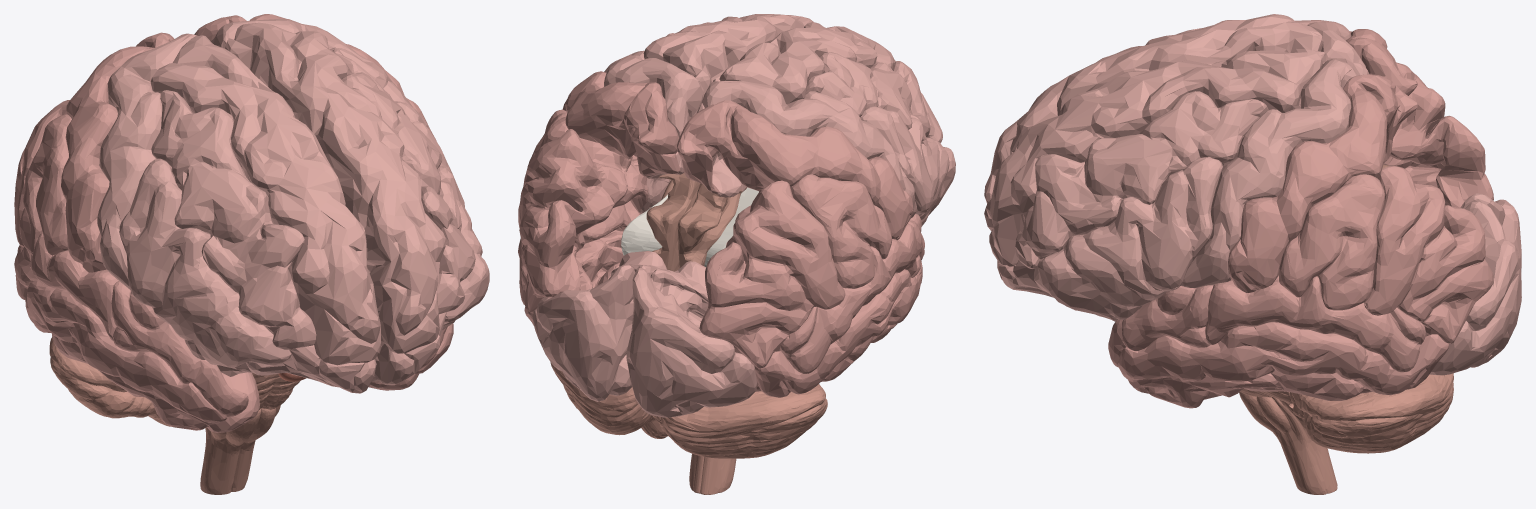
3 renders of one model, left to right at view 1: azimuth 30°, elevation 25°; view 2: azimuth 150°, elevation 25°; view 3: azimuth 270°, elevation 25°, orthographic. The views are drawn at different scales.
Parts seen in each view (by area): view 1: frontal_lobe__right_superior_frontal_gyrus, frontal_lobe__left_superior_frontal_gyrus, frontal_lobe__right_middle_frontal_gyrus, insula__right_accessory_short_gyrus, frontal_lobe__right_precentral_gyrus, parietal_lobe__right_postcentral_gyrus, temporal_lobe__right_middle_temporal_gyrus, frontal_lobe__left_middle_frontal_gyrus, temporal_lobe__anterior_part_of_right_superior_temporal_gyru, frontal_lobe__orbital_gyri_straight_gyrus, parietal_lobe__right_supramarginal_gyrus, temporal_lobe__posterior_part_of_right_superior_temporal_gyr (+8 smaller); view 2: parietal_lobe__right_angular_gyrus, occipital_lobe__right_occipital_lobe, parietal_lobe__right_postcentral_gyrus, parietal_lobe__left_angular_gyrus, cerebellum__cerebellum, occipital_lobe__left_occipital_lobe, parietal_lobe__left_postcentral_gyrus, frontal_lobe__right_precentral_gyrus, frontal_lobe__right_superior_frontal_gyrus, parietal_lobe__right_supramarginal_gyrus, frontal_lobe__left_superior_frontal_gyrus, frontal_lobe__right_middle_frontal_gyrus (+16 smaller); view 3: frontal_lobe__left_superior_frontal_gyrus, frontal_lobe__left_middle_frontal_gyrus, insula__left_accessory_short_gyrus, parietal_lobe__left_angular_gyrus, parietal_lobe__left_postcentral_gyrus, temporal_lobe__left_middle_temporal_gyrus, frontal_lobe__left_precentral_gyrus, frontal_lobe__right_superior_frontal_gyrus, parietal_lobe__left_supramarginal_gyrus, temporal_lobe__posterior_part_of_left_superior_temporal_gyru, cerebellum__cerebellum, parietal_lobe__right_angular_gyrus (+8 smaller).
Part boxes in pixels (x1=…): frontal_lobe__right_superior_frontal_gyrus: x1=150, y1=35, x2=380, y2=365; frontal_lobe__left_superior_frontal_gyrus: x1=225, y1=22, x2=445, y2=353; frontal_lobe__right_middle_frontal_gyrus: x1=151, y1=90, x2=316, y2=349; insula__right_accessory_short_gyrus: x1=119, y1=158, x2=291, y2=367; frontal_lobe__right_precentral_gyrus: x1=97, y1=33, x2=197, y2=289; parietal_lobe__right_postcentral_gyrus: x1=61, y1=32, x2=174, y2=272; temporal_lobe__right_middle_temporal_gyrus: x1=25, y1=280, x2=227, y2=423; frontal_lobe__left_middle_frontal_gyrus: x1=332, y1=48, x2=475, y2=314; temporal_lobe__anterior_part_of_right_superior_temporal_gyru: x1=111, y1=281, x2=248, y2=416; frontal_lobe__orbital_gyri_straight_gyrus: x1=217, y1=312, x2=455, y2=393; parietal_lobe__right_supramarginal_gyrus: x1=19, y1=114, x2=71, y2=255; temporal_lobe__posterior_part_of_right_superior_temporal_gyr: x1=14, y1=232, x2=118, y2=341; parietal_lobe__right_angular_gyrus: x1=699, y1=180, x2=845, y2=368; occipital_lobe__right_occipital_lobe: x1=626, y1=261, x2=756, y2=417; parietal_lobe__right_postcentral_gyrus: x1=677, y1=100, x2=913, y2=240; parietal_lobe__left_angular_gyrus: x1=518, y1=129, x2=627, y2=312; cerebellum__cerebellum: x1=550, y1=362, x2=827, y2=458; occipital_lobe__left_occipital_lobe: x1=532, y1=251, x2=666, y2=401; parietal_lobe__left_postcentral_gyrus: x1=562, y1=71, x2=680, y2=176; frontal_lobe__right_precentral_gyrus: x1=697, y1=80, x2=916, y2=217; frontal_lobe__right_superior_frontal_gyrus: x1=713, y1=22, x2=895, y2=191; parietal_lobe__right_supramarginal_gyrus: x1=759, y1=174, x2=892, y2=288; frontal_lobe__left_superior_frontal_gyrus: x1=643, y1=14, x2=813, y2=98; frontal_lobe__right_middle_frontal_gyrus: x1=806, y1=52, x2=942, y2=143; frontal_lobe__left_superior_frontal_gyrus: x1=984, y1=50, x2=1324, y2=266; frontal_lobe__left_middle_frontal_gyrus: x1=1015, y1=91, x2=1268, y2=268; insula__left_accessory_short_gyrus: x1=1034, y1=157, x2=1222, y2=319; parietal_lobe__left_angular_gyrus: x1=1364, y1=166, x2=1493, y2=343; parietal_lobe__left_postcentral_gyrus: x1=1228, y1=74, x2=1417, y2=293; temporal_lobe__left_middle_temporal_gyrus: x1=1117, y1=322, x2=1448, y2=395; frontal_lobe__left_precentral_gyrus: x1=1181, y1=59, x2=1357, y2=288; frontal_lobe__right_superior_frontal_gyrus: x1=984, y1=14, x2=1324, y2=203; parietal_lobe__left_supramarginal_gyrus: x1=1278, y1=174, x2=1385, y2=310; temporal_lobe__posterior_part_of_left_superior_temporal_gyru: x1=1205, y1=275, x2=1425, y2=372; cerebellum__cerebellum: x1=1290, y1=373, x2=1453, y2=453; parietal_lobe__right_angular_gyrus: x1=1383, y1=62, x2=1493, y2=207.
Bounding box in the file's own units: 133 × 157 × 170.
